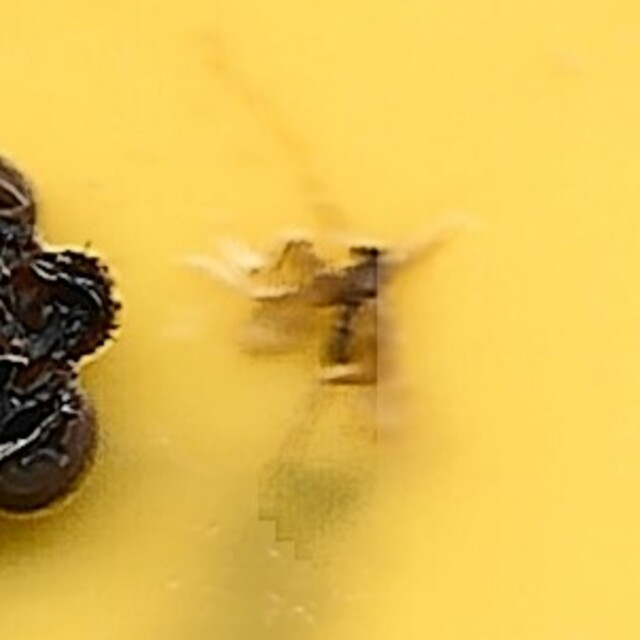Nematocera: (212, 234, 428, 406)
